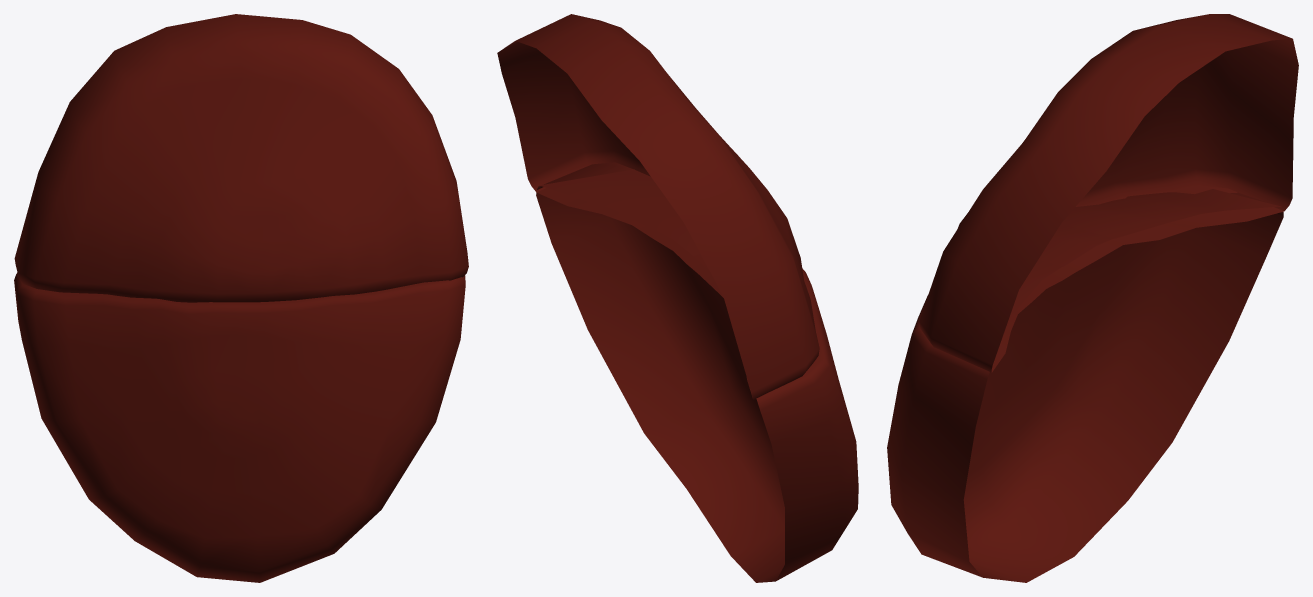
File: Morph-BLINK-RIGHT_01.FBX
3 renders of one model, left to right at view 1: azimuth 30°, elevation 25°; view 2: azimuth 150°, elevation 25°; view 3: azimuth 270°, elevation 25°, orthographic. The views are drawn at different scales.
Parts seen in each view (by area): view 1: Blink-RIGHT_01; view 2: Blink-RIGHT_01; view 3: Blink-RIGHT_01.
Boxes of the visible parts, x1=… form: Blink-RIGHT_01: x1=14, y1=14, x2=468, y2=582; Blink-RIGHT_01: x1=497, y1=14, x2=858, y2=582; Blink-RIGHT_01: x1=887, y1=14, x2=1298, y2=582.
Bounding box in the file's own units: 61.81 × 80.75 × 51.96.
